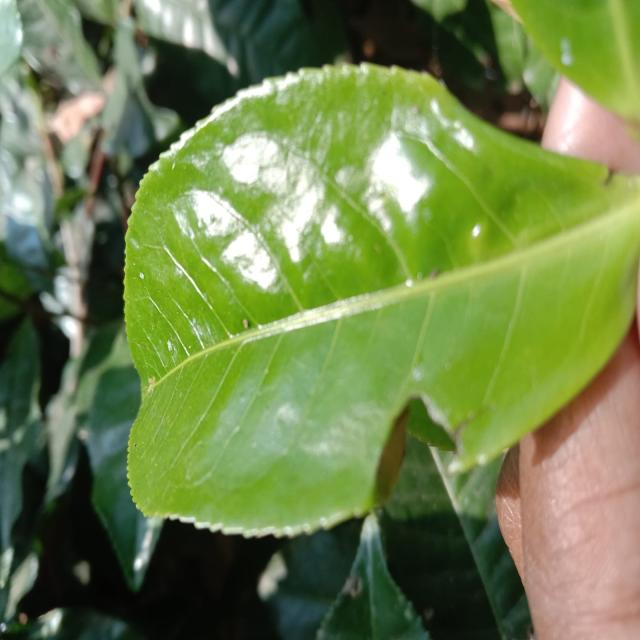Category B 2-4 days: (101, 48, 638, 541)
